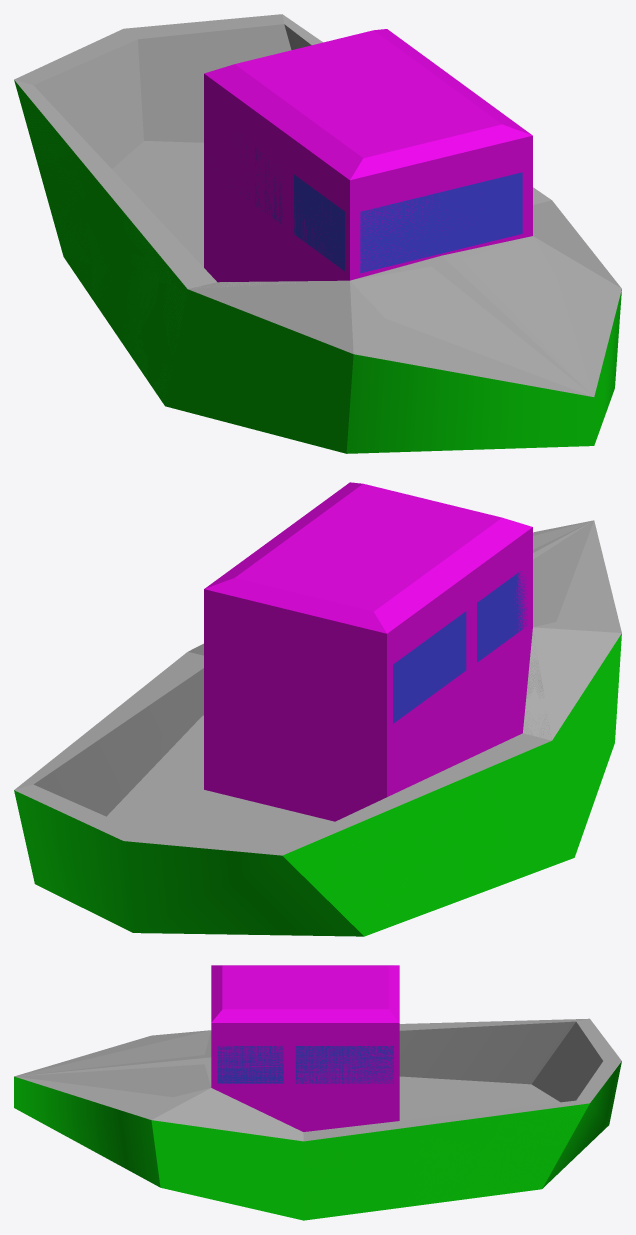
File: E_boat.fbx
The picture shows the model from 3 angles, top to bottom: view 1: azimuth 30°, elevation 25°; view 2: azimuth 150°, elevation 25°; view 3: azimuth 270°, elevation 25°; orthographic projection. The views are drawn at different scales.
Visible parts, largest first — view 1: hp_e_boat, lp_e_boat, mp_e_boat; view 2: hp_e_boat, mp_e_boat, lp_e_boat; view 3: hp_e_boat, mp_e_boat, lp_e_boat.
Boxes of the visible parts, box(x1,y1,x2,y2) form: hp_e_boat: box(14, 14, 621, 453); lp_e_boat: box(15, 83, 593, 405); mp_e_boat: box(204, 74, 532, 281); hp_e_boat: box(14, 482, 621, 936); mp_e_boat: box(204, 527, 532, 820); lp_e_boat: box(285, 520, 593, 933); hp_e_boat: box(14, 965, 621, 1220); mp_e_boat: box(211, 1023, 399, 1130); lp_e_boat: box(14, 1030, 589, 1220).
Bounding box in the file's own units: 458 × 279 × 912.
